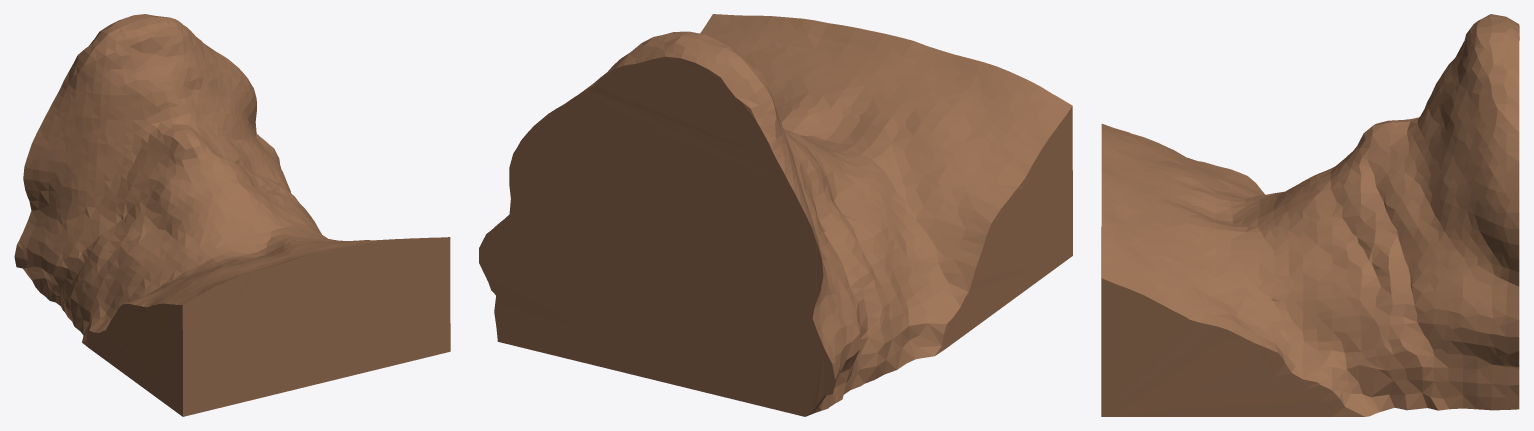
File: Phantom.fbx
The picture shows the model from 3 angles, left to right: view 1: azimuth 30°, elevation 25°; view 2: azimuth 150°, elevation 25°; view 3: azimuth 270°, elevation 25°; orthographic projection. The views are drawn at different scales.
Visible parts, largest first — view 1: ThyroidGlandPhantom; view 2: ThyroidGlandPhantom; view 3: ThyroidGlandPhantom.
Part boxes in pixels (bbox=[...]): ThyroidGlandPhantom: bbox=[14, 14, 450, 416]; ThyroidGlandPhantom: bbox=[479, 14, 1072, 416]; ThyroidGlandPhantom: bbox=[1101, 14, 1519, 416].
Bounding box in the file's own units: 17.99 × 16.01 × 20.
